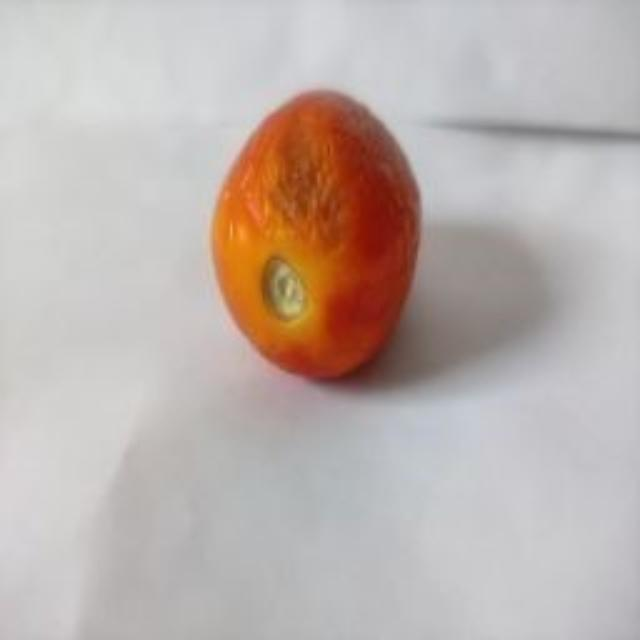defect: (206, 84, 425, 384)
